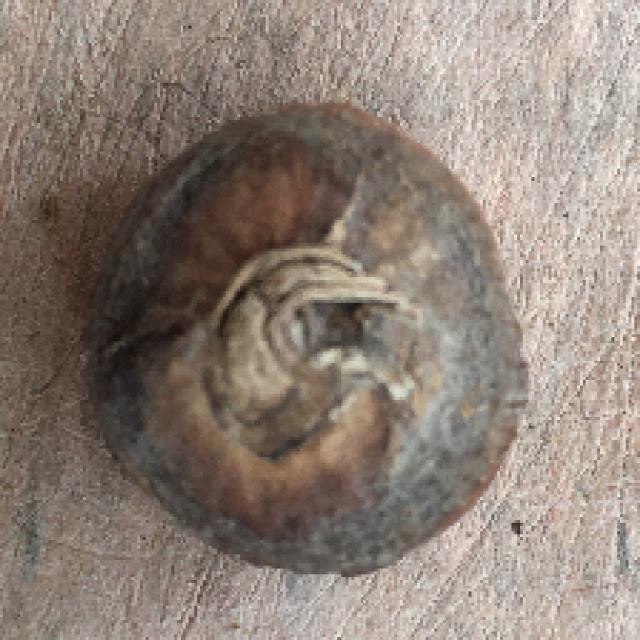DamagedHazelnut: (92, 104, 533, 576)
